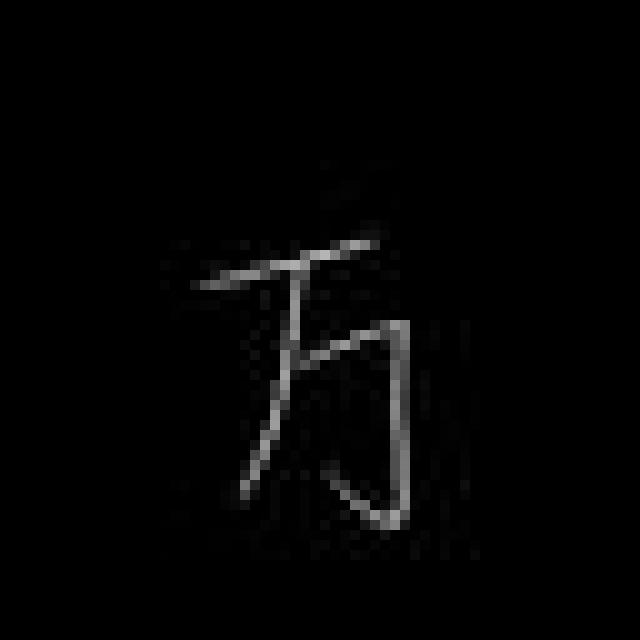10000 -a ten thousand-: (186, 212, 430, 550)
